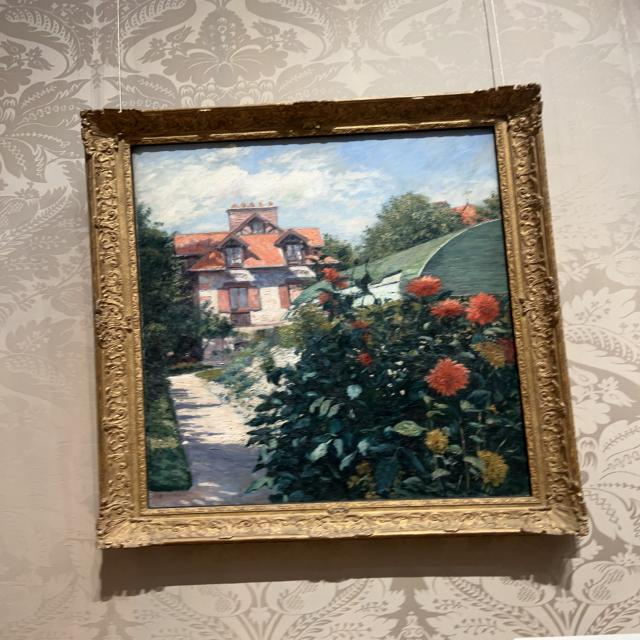summer: (141, 133, 526, 505)
